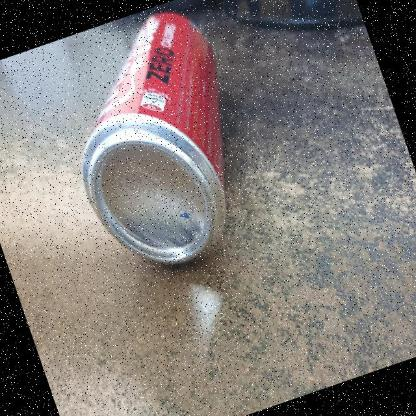Can: (82, 9, 232, 268)
